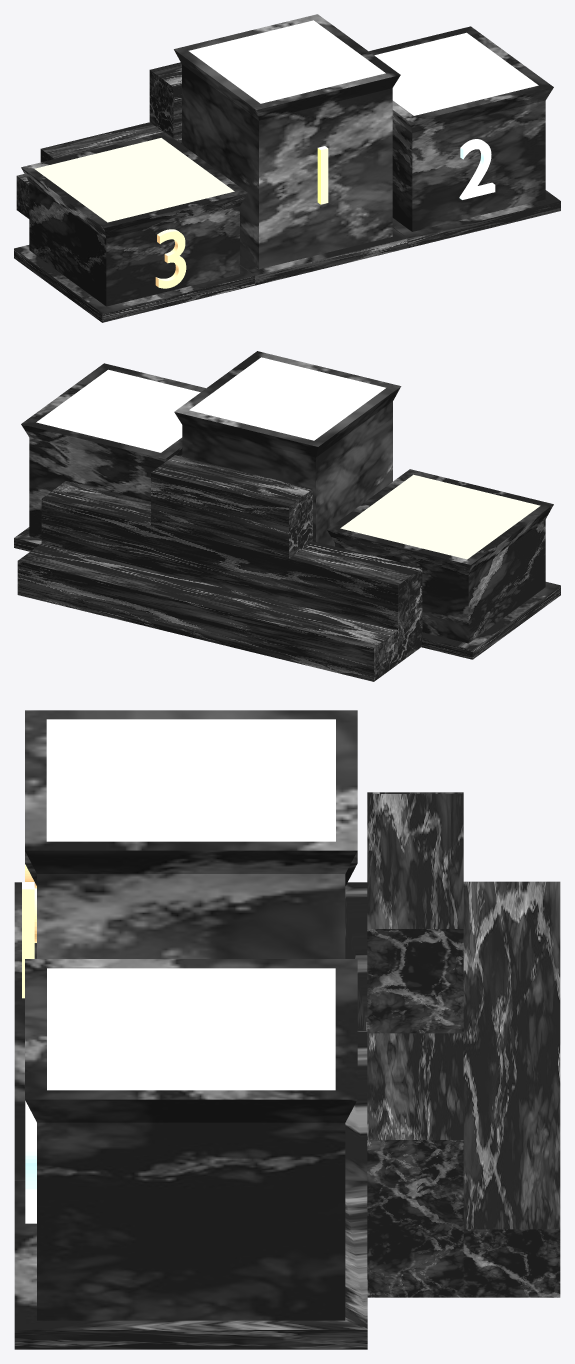
The model's file is Podium.glb.
The picture shows the model from 3 angles, top to bottom: view 1: azimuth 30°, elevation 25°; view 2: azimuth 150°, elevation 25°; view 3: azimuth 270°, elevation 25°; orthographic projection. The views are drawn at different scales.
Visible parts, largest first — view 1: 1ST, 3RD, 2ND, STAIRS, 2, 3, 1; view 2: STAIRS, 3RD, 1ST, 2ND; view 3: 2ND, STAIRS, 1ST, 3RD, 2, 1.
Boxes of the visible parts, <box> form: 1ST: <box>174,14,407,285</box>; 3RD: <box>14,132,254,322</box>; 2ND: <box>369,26,560,248</box>; STAIRS: <box>16,62,181,218</box>; 2: <box>459,139,495,199</box>; 3: <box>155,229,186,288</box>; 1: <box>317,146,328,204</box>; STAIRS: <box>17,455,422,681</box>; 3RD: <box>327,469,560,659</box>; 1ST: <box>174,351,401,546</box>; 2ND: <box>14,363,205,551</box>; 2ND: <box>14,959,367,1349</box>; STAIRS: <box>367,792,560,1297</box>; 1ST: <box>14,710,367,1180</box>; 3RD: <box>14,851,367,1031</box>; 2: <box>25,1101,36,1223</box>; 1: <box>22,882,34,998</box>.
Size of what is drawn, in the model's own units: 6 by 2.16 by 3.09.
Materials: 5 (2 with a texture image).
